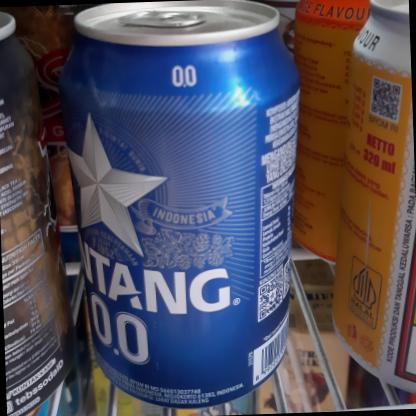alumunium_can: (51, 0, 318, 416)
